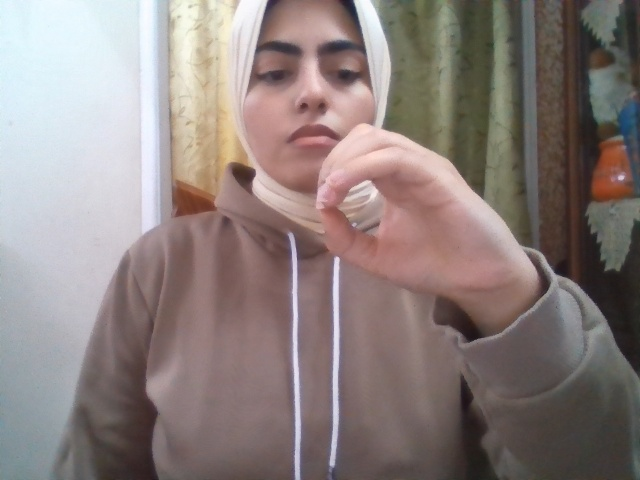O: (316, 122, 521, 298)
